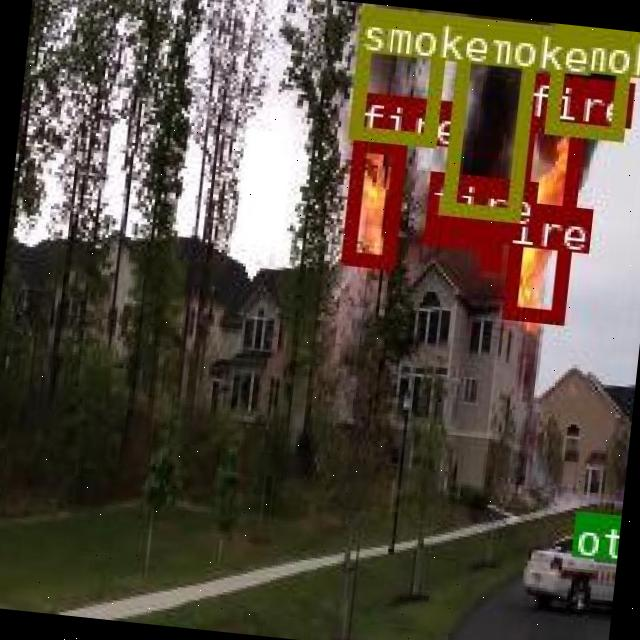fire: (502, 117, 579, 321), (338, 136, 404, 265), (421, 215, 502, 248), (476, 241, 499, 267)
smoke: (440, 13, 538, 219), (346, 2, 445, 142), (543, 23, 631, 136)
